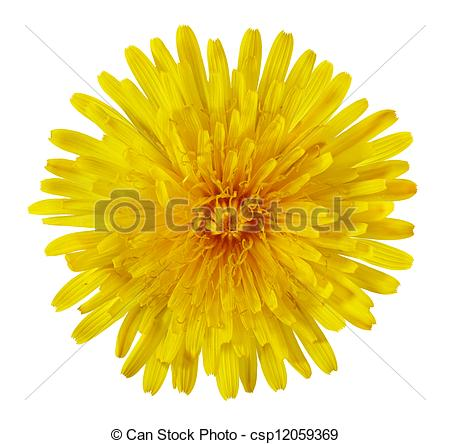dandelion: (44, 41, 419, 387)
